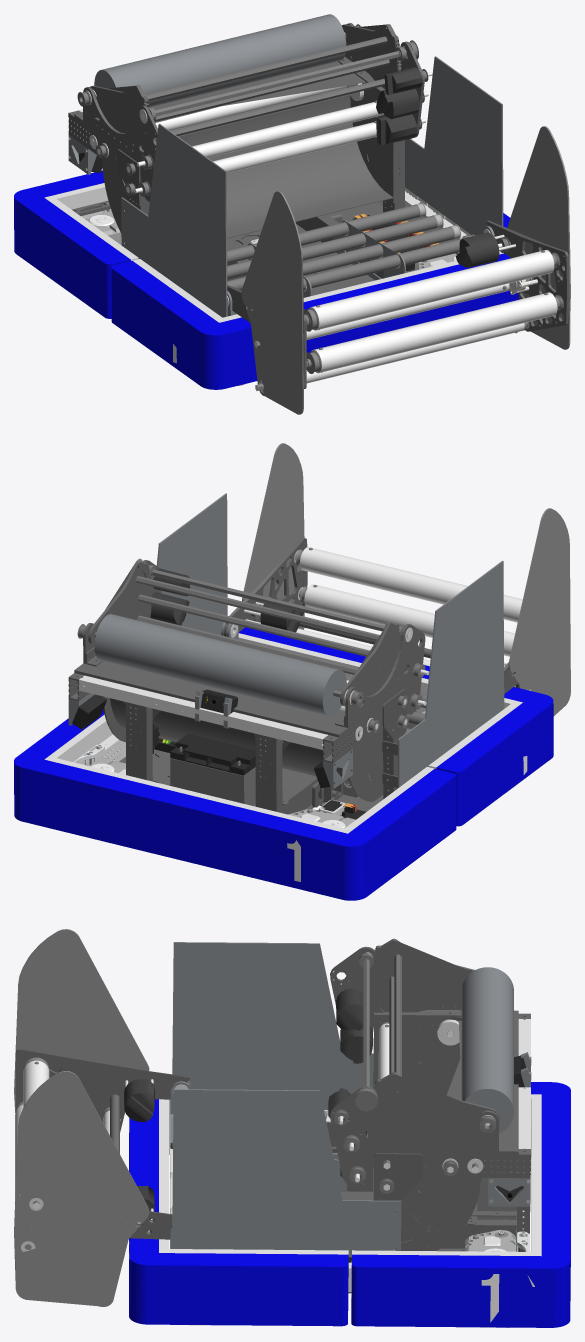
3 views of the same model, one above another, from view 1: azimuth 30°, elevation 25°; view 2: azimuth 150°, elevation 25°; view 3: azimuth 270°, elevation 25° (orthographic). The views are drawn at different scales.
Visible parts, largest first — view 1: Part 1.072, Part 1.003, Part 1.005, Part 1.051, Part 1.019, 7767T353_Low-Carbon Steel Round Tube, Part 1.068, Part 1.014, Part 1.022, Part 1.024, Deadaxle Tube_22.125_in, Part 1.060 (+36 smaller); view 2: Part 1.068, Part 1.003, 7767T353_Low-Carbon Steel Round Tube, Part 1.072, Part 1.019, Part 1.005, Part 1.014, Robot Battery, 2" x 1" x 0.125" Aluminum Box Tube (16.7" L, Full Pattern, 0 (×3), Part 1.058, Part 1.024, 1" x 1" x 0.125" Aluminum Box Tube (23.5" L, Full Pattern, 0 (+27 smaller); view 3: Part 1.005, Part 1.003, Part 1.014, Part 1.068, Part 1.072, Part 1.019, 7767T353_Low-Carbon Steel Round Tube, Part 1.056, Part 1.039, Part 1.015, TURRET-25A-1006 Interior Left Plate.002, Part 1.043 (+26 smaller).
Boxes of the visible parts, x1,y1,x2,y2 form: Part 1.072: (111, 213, 518, 389); Part 1.003: (121, 123, 227, 317); Part 1.005: (405, 56, 503, 235); Part 1.051: (156, 94, 393, 238); Part 1.019: (241, 191, 304, 414); 7767T353_Low-Carbon Steel Round Tube: (94, 14, 346, 107); Part 1.068: (14, 170, 130, 318); Part 1.014: (507, 126, 570, 349); Part 1.022: (311, 292, 557, 373); Part 1.024: (309, 250, 554, 330); Deadaxle Tube_22.125_in: (192, 102, 383, 157); Part 1.060: (83, 87, 157, 201); Part 1.068: (14, 709, 456, 900); Part 1.003: (398, 560, 504, 787); 7767T353_Low-Carbon Steel Round Tube: (94, 614, 346, 716); Part 1.072: (238, 627, 553, 826); Part 1.019: (508, 508, 570, 716); Part 1.005: (156, 493, 227, 635); Part 1.014: (242, 443, 304, 629); Robot Battery: (170, 733, 255, 805); 2" x 1" x 0.125" Aluminum Box Tube (16.7" L, Full Pattern, 0 (×3): (125, 702, 405, 813); Part 1.058: (74, 661, 405, 737); Part 1.024: (300, 547, 522, 622); 1" x 1" x 0.125" Aluminum Box Tube (23.5" L, Full Pattern, 0: (79, 675, 327, 749); Part 1.005: (172, 1089, 401, 1257); Part 1.003: (172, 942, 373, 1109); Part 1.014: (14, 1071, 149, 1306); Part 1.068: (351, 1082, 570, 1327); Part 1.072: (129, 1099, 348, 1326); Part 1.019: (14, 929, 149, 1112); 7767T353_Low-Carbon Steel Round Tube: (461, 967, 513, 1133); Part 1.056: (330, 1086, 499, 1187); Part 1.039: (373, 1173, 481, 1250); Part 1.015: (15, 1048, 191, 1132); TURRET-25A-1006 Interior Left Plate.002: (369, 938, 474, 1012); Part 1.043: (373, 1019, 460, 1095).
Size of the model in its own units: 0.8573 by 0.5648 by 1.08.
